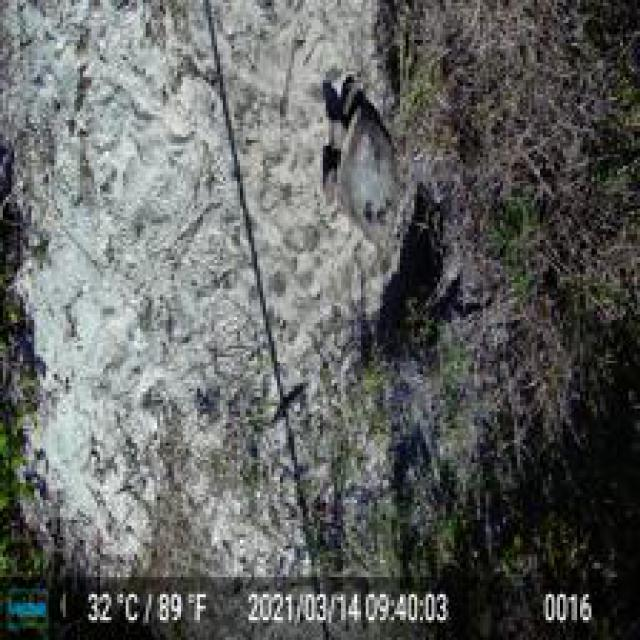tortoise: (317, 74, 406, 249)
